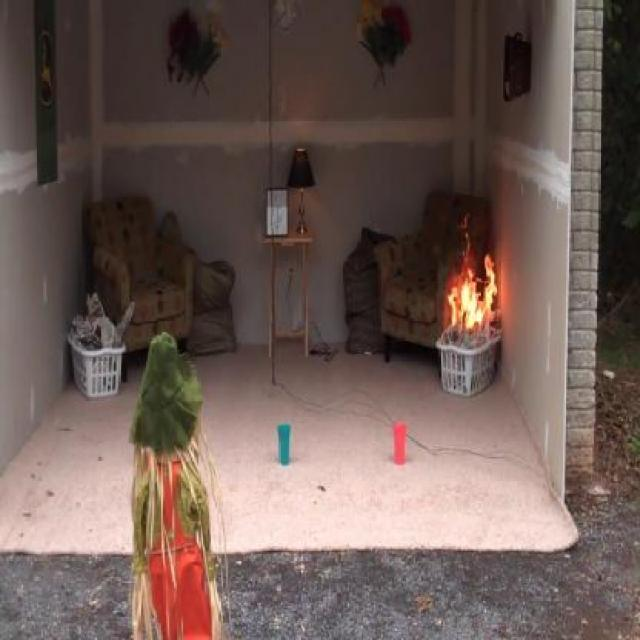fire: (429, 204, 514, 370)
